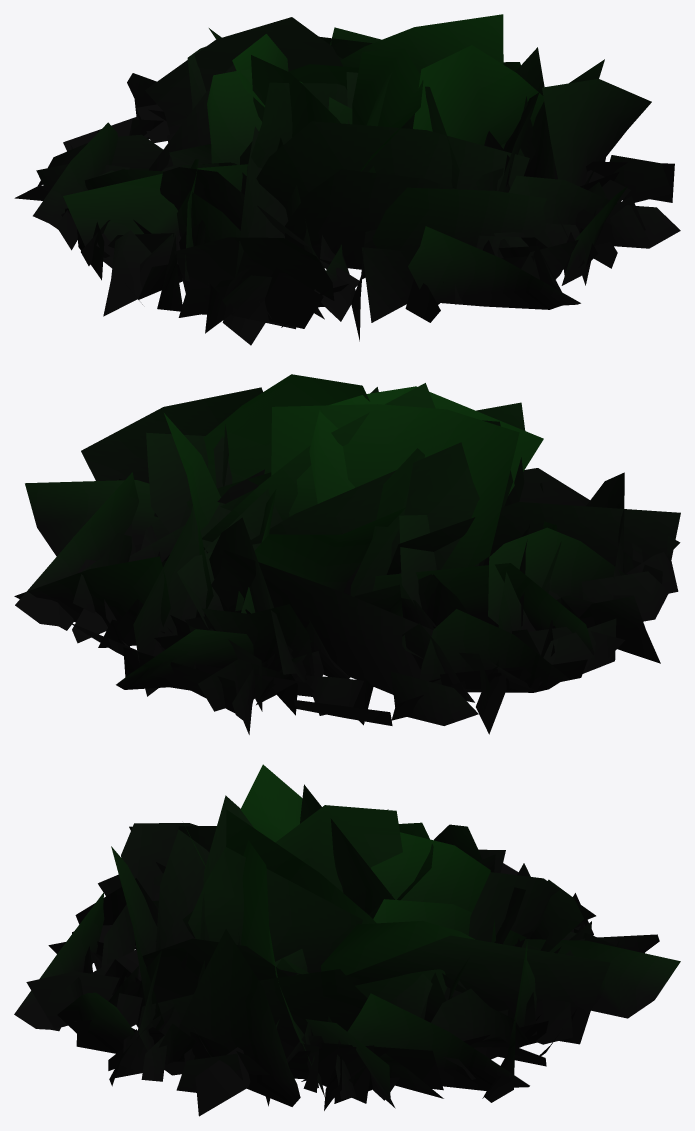
The model's file is GrassMedium_I.fbx.
The picture shows the model from 3 angles, top to bottom: view 1: azimuth 30°, elevation 25°; view 2: azimuth 150°, elevation 25°; view 3: azimuth 270°, elevation 25°; orthographic projection. The views are drawn at different scales.
Visible parts, largest first — view 1: GrassMedium_I_LOD0; view 2: GrassMedium_I_LOD0; view 3: GrassMedium_I_LOD0.
Boxes of the visible parts, left/top/right/bottom form: GrassMedium_I_LOD0: left=14, top=14, right=680, bottom=345; GrassMedium_I_LOD0: left=14, top=374, right=680, bottom=734; GrassMedium_I_LOD0: left=14, top=764, right=680, bottom=1116.
Size of what is drawn, in the model's own units: 2.32 by 0.7956 by 2.43.
